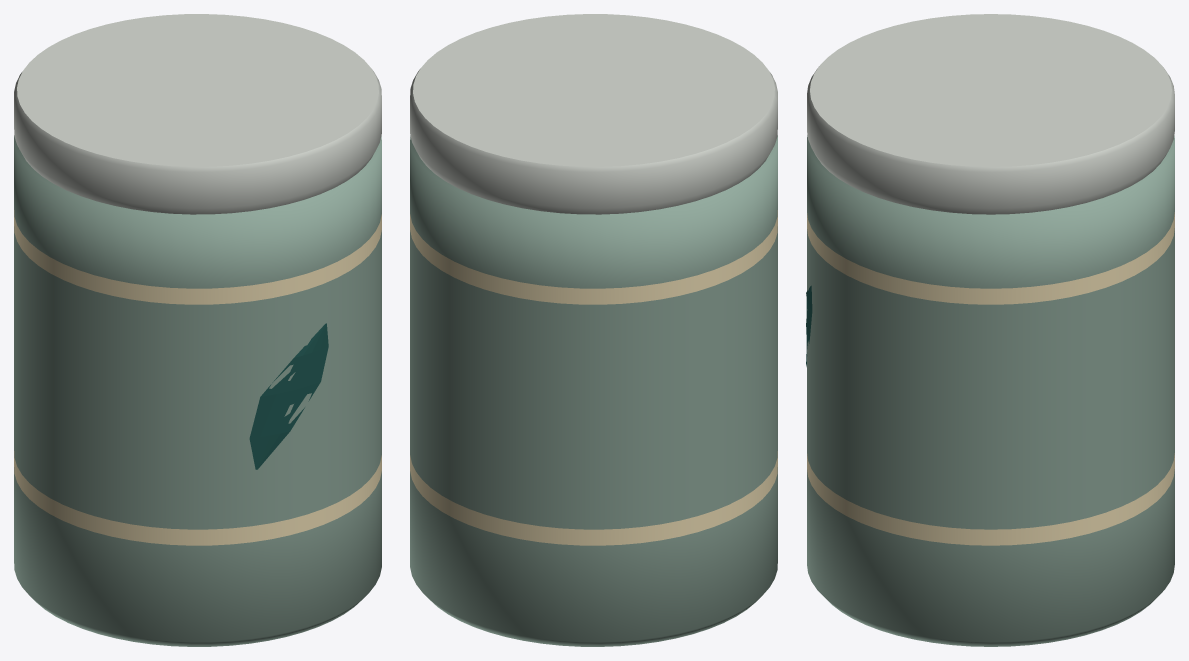
Rendered from tin.glb.
3 views of the same model, side by side, from view 1: azimuth 30°, elevation 25°; view 2: azimuth 150°, elevation 25°; view 3: azimuth 270°, elevation 25° (orthographic).
Visible parts, largest first — view 1: tin; view 2: tin; view 3: tin.
Boxes of the visible parts, bbox=[...] form: tin: bbox=[14, 14, 381, 646]; tin: bbox=[410, 14, 777, 646]; tin: bbox=[806, 14, 1174, 646].
Size of the model in its own units: 0.09 by 0.13 by 0.0902.
